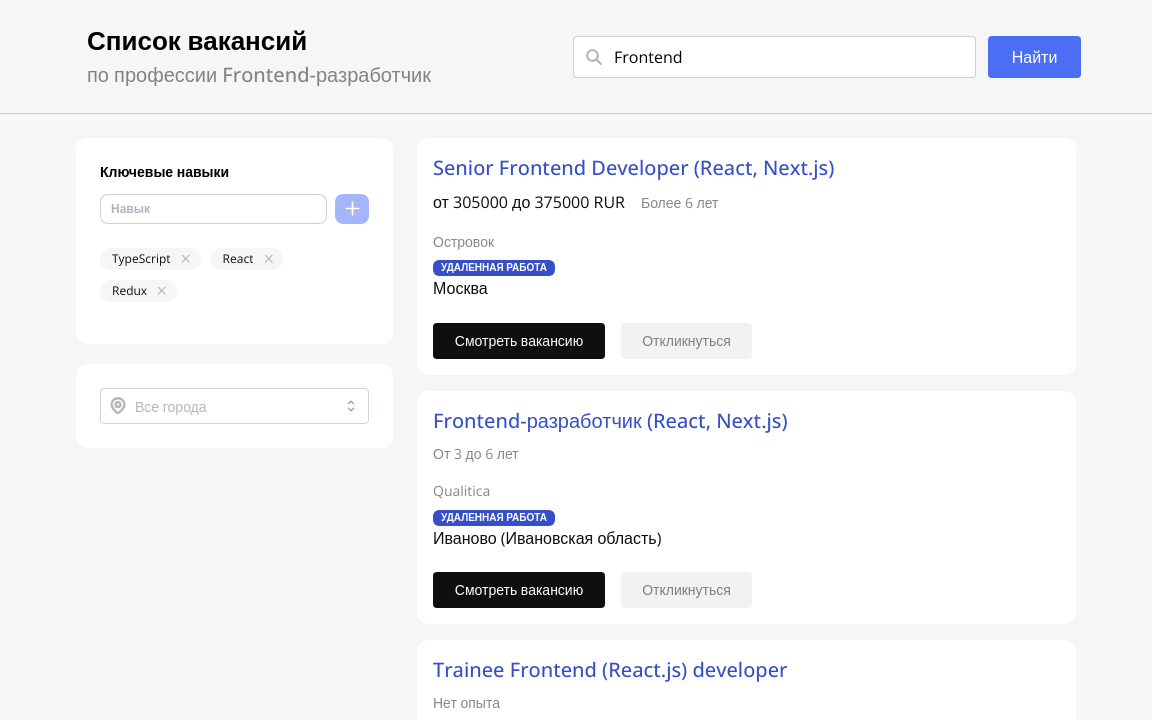
HomePage Компонент › должен позволять добавить навык и удалить его
Type "React" into the field with test id "skill-input". click: {"x": 214, "y": 209}
box: [100,194,327,224]
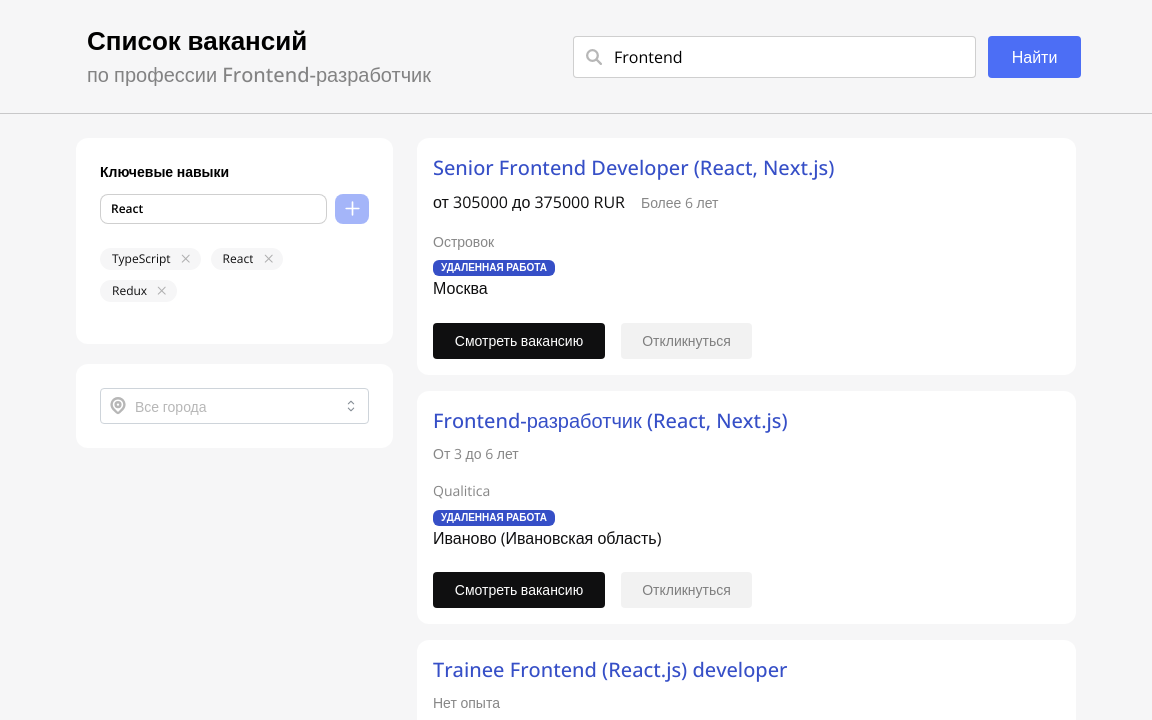
Click the button with test id "add-skill-button". click: {"x": 352, "y": 209}
box: [335,194,369,224]
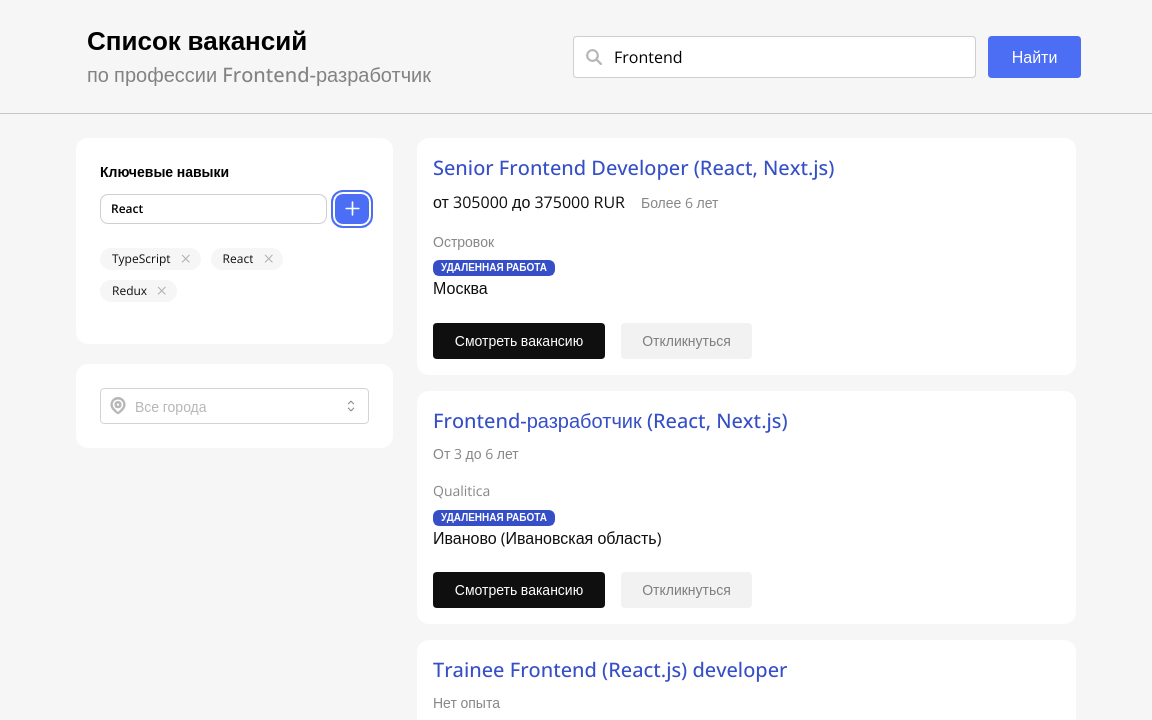
Expected: the element with test id "pill-React" is shown, [211,248,283,270]
Click the 4th button. click: {"x": 269, "y": 259}
box: [257,248,281,270]
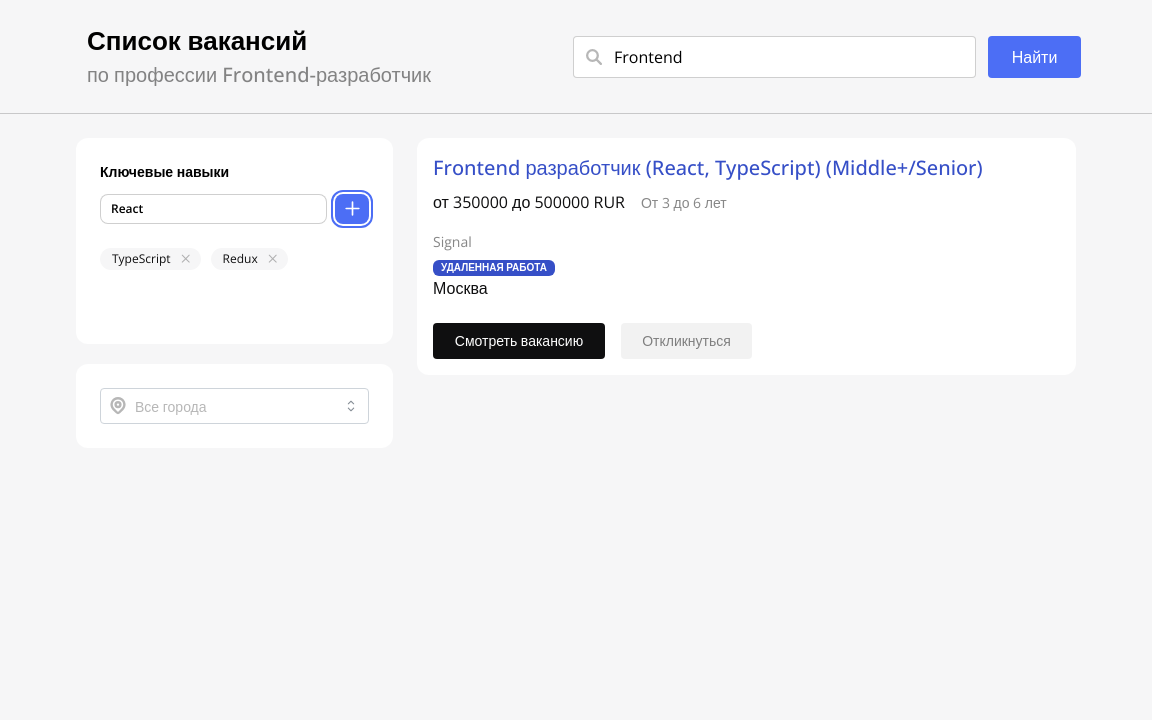
Expected: the element with test id "pill-React" is gone
